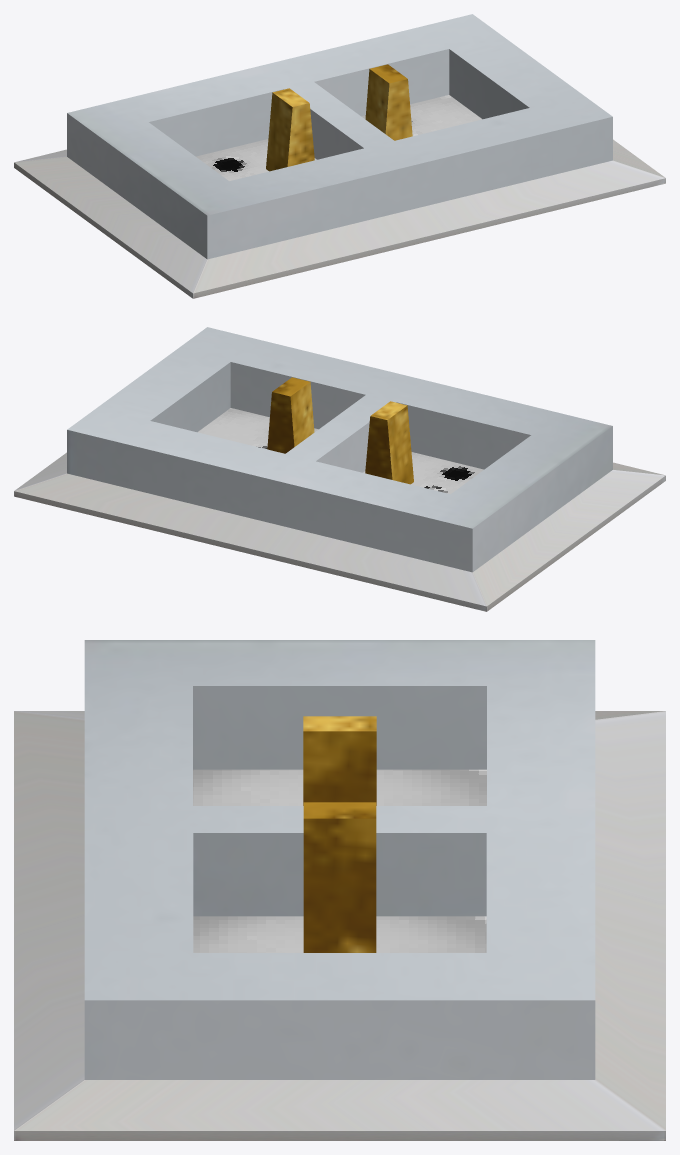
The model's file is socket.FBX.
3 renders of one model, top to bottom at view 1: azimuth 30°, elevation 25°; view 2: azimuth 150°, elevation 25°; view 3: azimuth 270°, elevation 25°, orthographic. The views are drawn at different scales.
Visible parts, largest first — view 1: Object001, Box001, Object002, Object003; view 2: Object001, Box001, Object002, Object003; view 3: Object001, Box001, Object002, Object003.
Boxes of the visible parts, left/top/right/bottom form: Object001: left=67, top=14, right=612, bottom=259; Box001: left=14, top=139, right=665, bottom=298; Object002: left=266, top=64, right=412, bottom=171; Object003: left=196, top=95, right=481, bottom=180; Object001: left=67, top=327, right=612, bottom=572; Box001: left=14, top=452, right=665, bottom=611; Object002: left=267, top=377, right=413, bottom=484; Object003: left=198, top=408, right=483, bottom=493; Object001: left=84, top=640, right=595, bottom=1079; Box001: left=14, top=711, right=665, bottom=1140; Object002: left=303, top=716, right=376, bottom=952; Object003: left=193, top=769, right=486, bottom=952.
Size of the model in its own units: 108 by 19.53 by 70.55.
4 materials, 4 textured.
